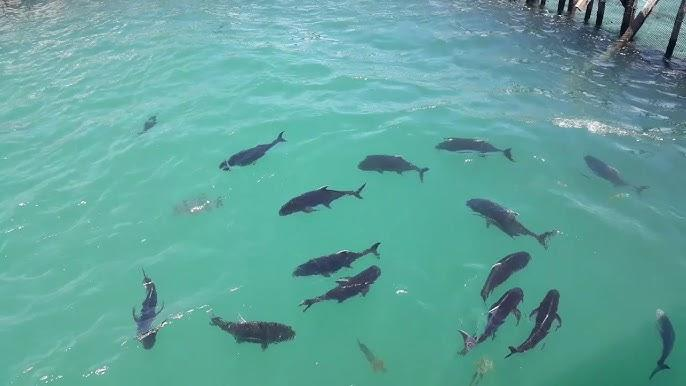fish: (194, 298, 324, 370), (276, 228, 396, 292), (570, 136, 656, 218), (454, 190, 562, 254), (292, 258, 398, 320), (270, 178, 380, 228), (350, 144, 440, 202), (214, 124, 292, 184), (432, 122, 522, 174), (634, 300, 686, 386)
